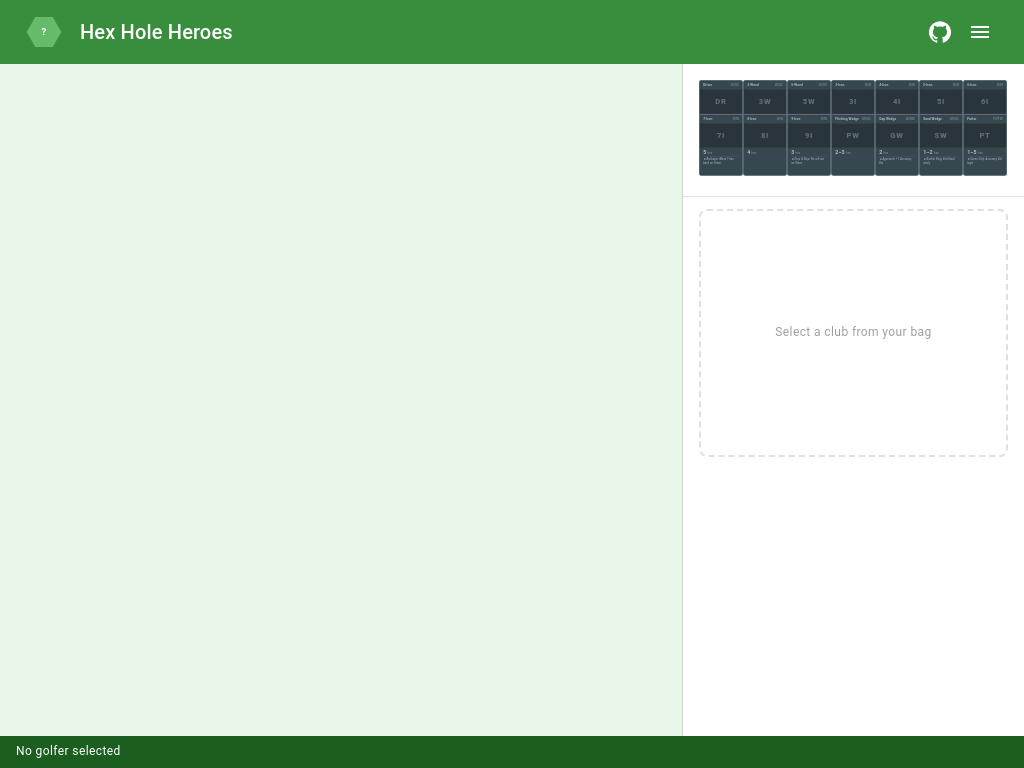
Test: Layout › opens the hamburger menu when clicked
Click the button named "open menu".
click(980, 32)  # box left=960, top=12, right=1000, bottom=52
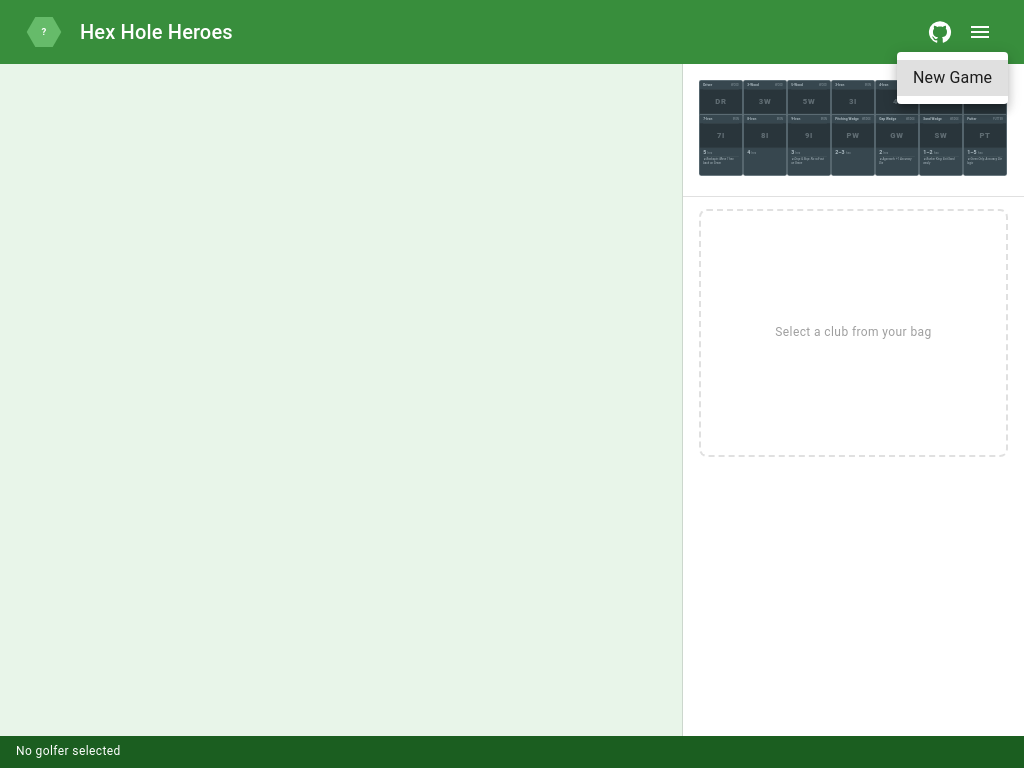
Result: the menu item "New Game" is shown at left=897, top=60, right=1008, bottom=96
